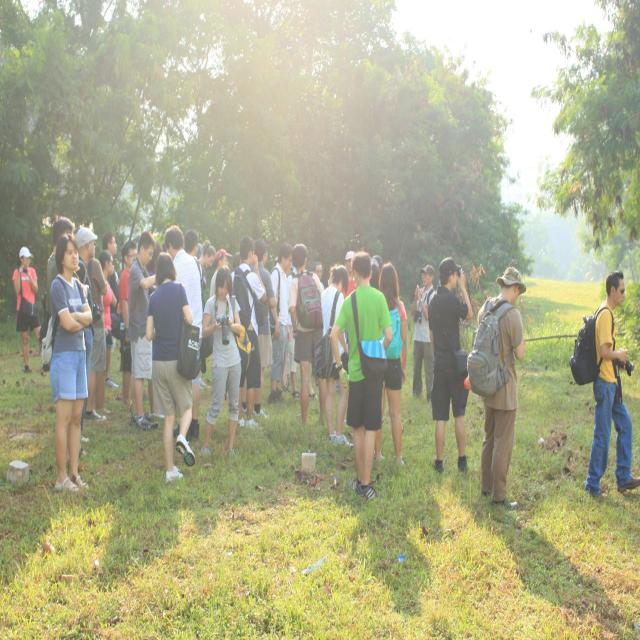body: (568, 269, 640, 500), (329, 249, 393, 501), (466, 264, 528, 510), (37, 231, 93, 496), (146, 250, 202, 485), (45, 217, 87, 473), (427, 255, 475, 477), (162, 223, 204, 442), (311, 263, 357, 452), (199, 265, 243, 459), (229, 233, 268, 431), (287, 242, 327, 432), (240, 238, 278, 421), (272, 253, 318, 401), (128, 231, 160, 432), (68, 224, 97, 445), (378, 262, 408, 468), (265, 239, 295, 407), (110, 240, 138, 410), (83, 251, 109, 424), (409, 264, 437, 406), (12, 246, 42, 374), (192, 238, 218, 376), (101, 231, 121, 389), (96, 250, 116, 389), (182, 228, 204, 286), (209, 248, 233, 298), (365, 249, 385, 297), (340, 250, 358, 302), (194, 238, 210, 292), (150, 232, 168, 265), (328, 257, 346, 282), (229, 252, 243, 284), (314, 260, 327, 290)
